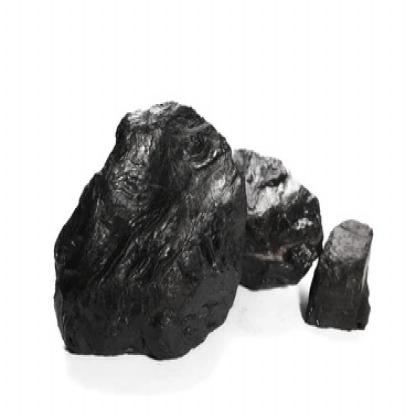Sedimentary_coal: (53, 99, 245, 370), (302, 185, 378, 335)
